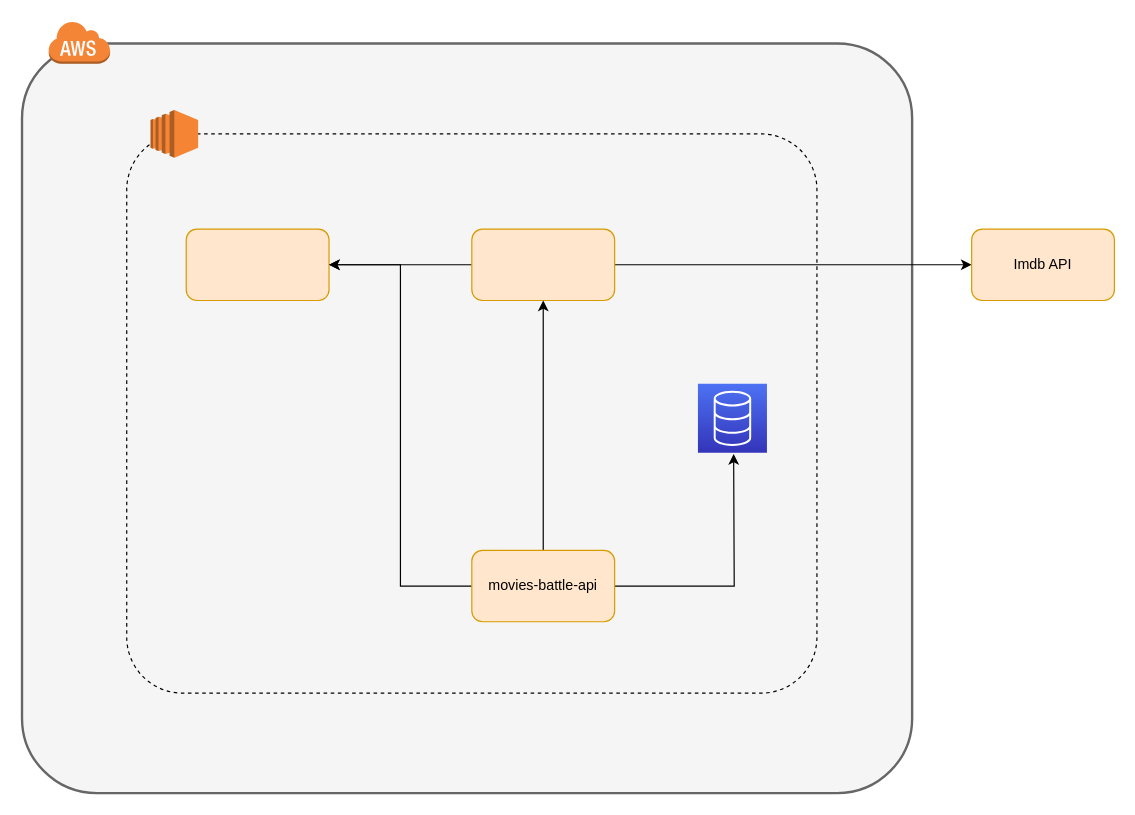
The diagram is 1135 pixels wide and 815 high, and some of its shapes have lost their labels. The shapes that lost their labels are listed below. From the top down, each one's centre as x and y in pixels, then its label:
point 257,264: service-registry
point 543,264: movies-api
